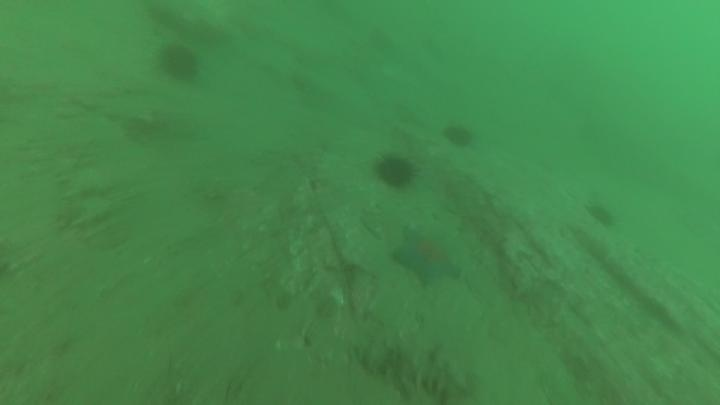echinus: (156, 41, 203, 85), (372, 151, 417, 191), (440, 121, 477, 151), (583, 199, 618, 230)
holothurian: (350, 330, 474, 402), (53, 158, 132, 251)
starfish: (390, 225, 464, 289)
